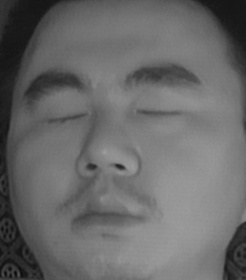blink: (43, 101, 92, 132), (136, 96, 180, 128)
mouth: (65, 183, 154, 243)
